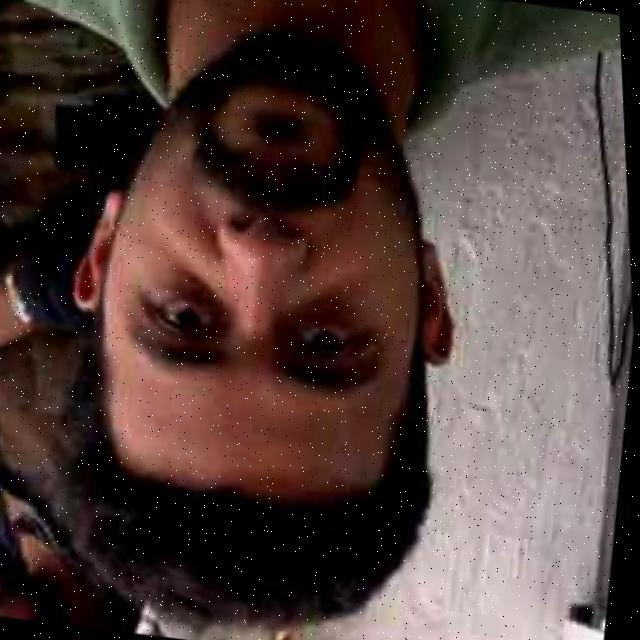puffy_eyes: (169, 272, 230, 325), (278, 295, 357, 326)
